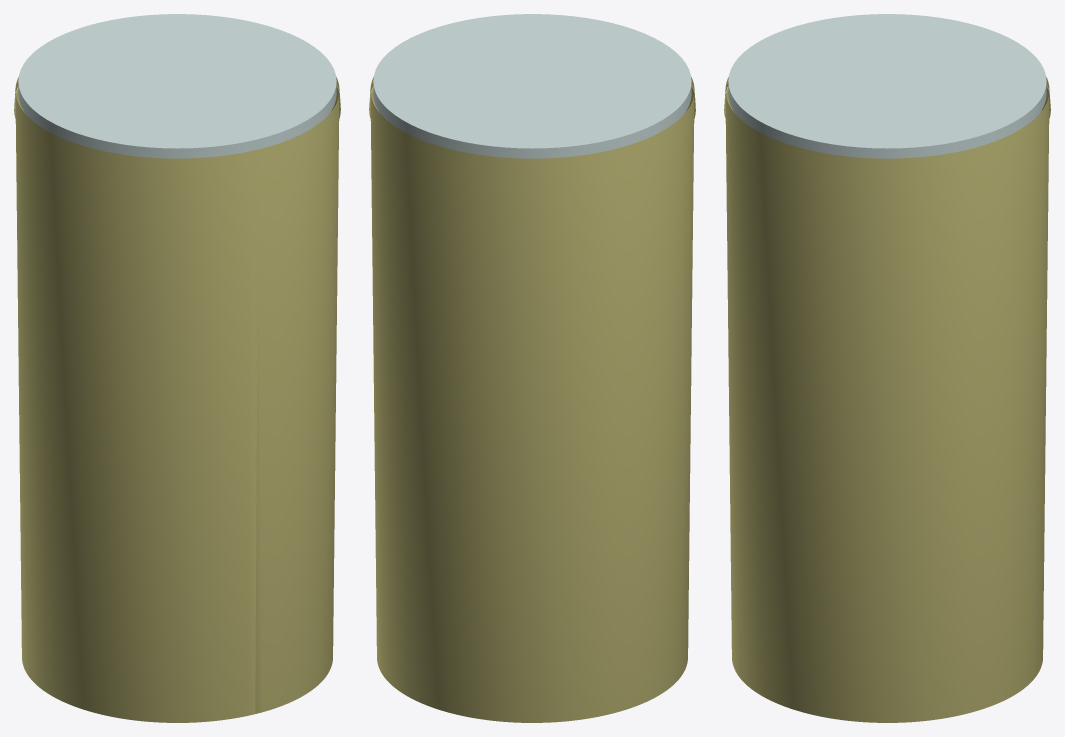
Rendered from stanley-iceflow-30-bodyfit-v2.glb.
3 views of the same model, side by side, from view 1: azimuth 30°, elevation 25°; view 2: azimuth 150°, elevation 25°; view 3: azimuth 270°, elevation 25° (orthographic).
Visible parts, largest first — view 1: body_mesh, rim_mesh; view 2: body_mesh, rim_mesh; view 3: body_mesh, rim_mesh.
Boxes of the visible parts, <box> form: body_mesh: <box>14,77,340,722</box>; rim_mesh: <box>18,14,336,158</box>; body_mesh: <box>369,77,695,722</box>; rim_mesh: <box>373,14,691,158</box>; body_mesh: <box>724,77,1050,722</box>; rim_mesh: <box>728,14,1046,158</box>.
Bounding box in the file's own units: 92.12 × 179 × 92.12.
